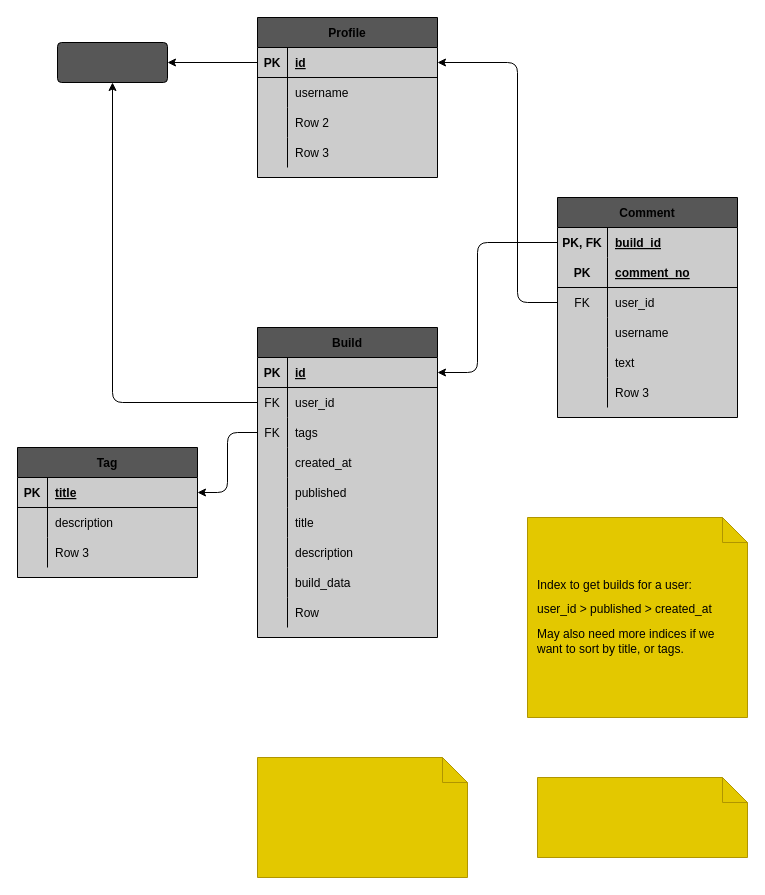
Some shapes in this 765 by 895 pixel diagram are drawn without their labels. Here are the shapes that lost their labels. From the top down, the centre of each, then its label:
[112,62]: users (auth)
[362,817]: TODO: Likes Collect Report
[642,817]: Use typeSense for search engine
